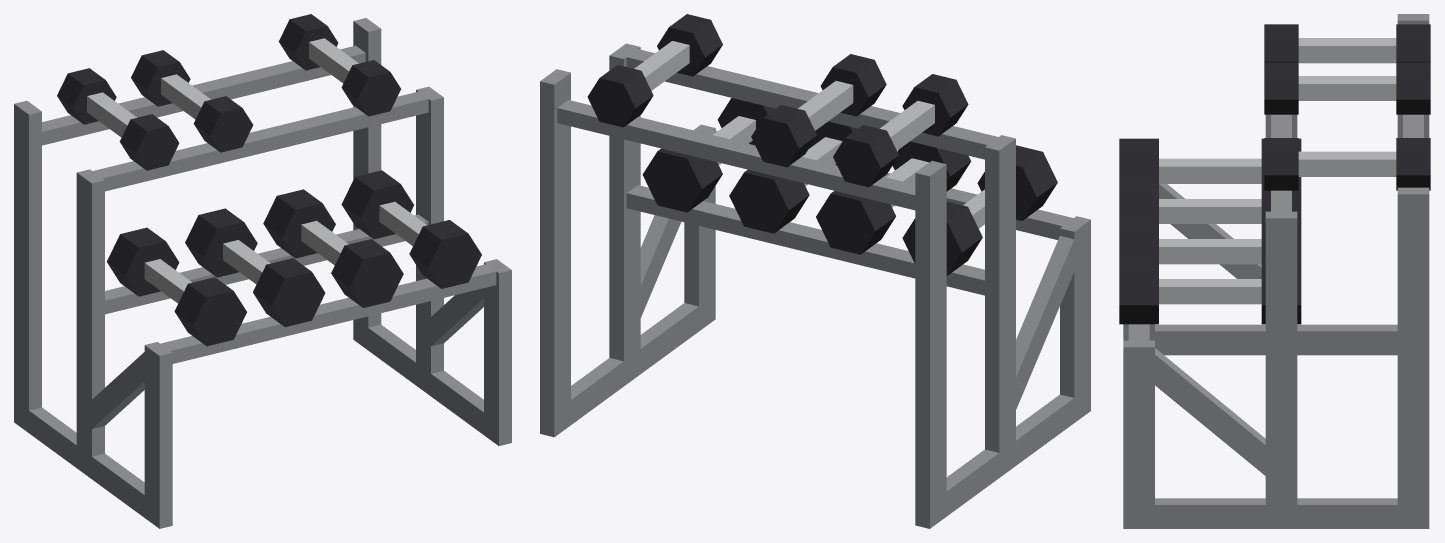
The model's file is FN_Rack_Dumbbell.obj.
3 renders of one model, left to right at view 1: azimuth 30°, elevation 25°; view 2: azimuth 150°, elevation 25°; view 3: azimuth 270°, elevation 25°, orthographic. The views are drawn at different scales.
Parts seen in each view (by area): view 1: FN_Rack_Dumbbell; view 2: FN_Rack_Dumbbell; view 3: FN_Rack_Dumbbell.
Part boxes in pixels (x1,y1,x2,y2): FN_Rack_Dumbbell: [14, 14, 511, 528]; FN_Rack_Dumbbell: [540, 14, 1090, 528]; FN_Rack_Dumbbell: [1119, 14, 1430, 528].
Bounding box in the file's own units: 0.81 × 0.7366 × 0.59.
1 material, 1 textured.
